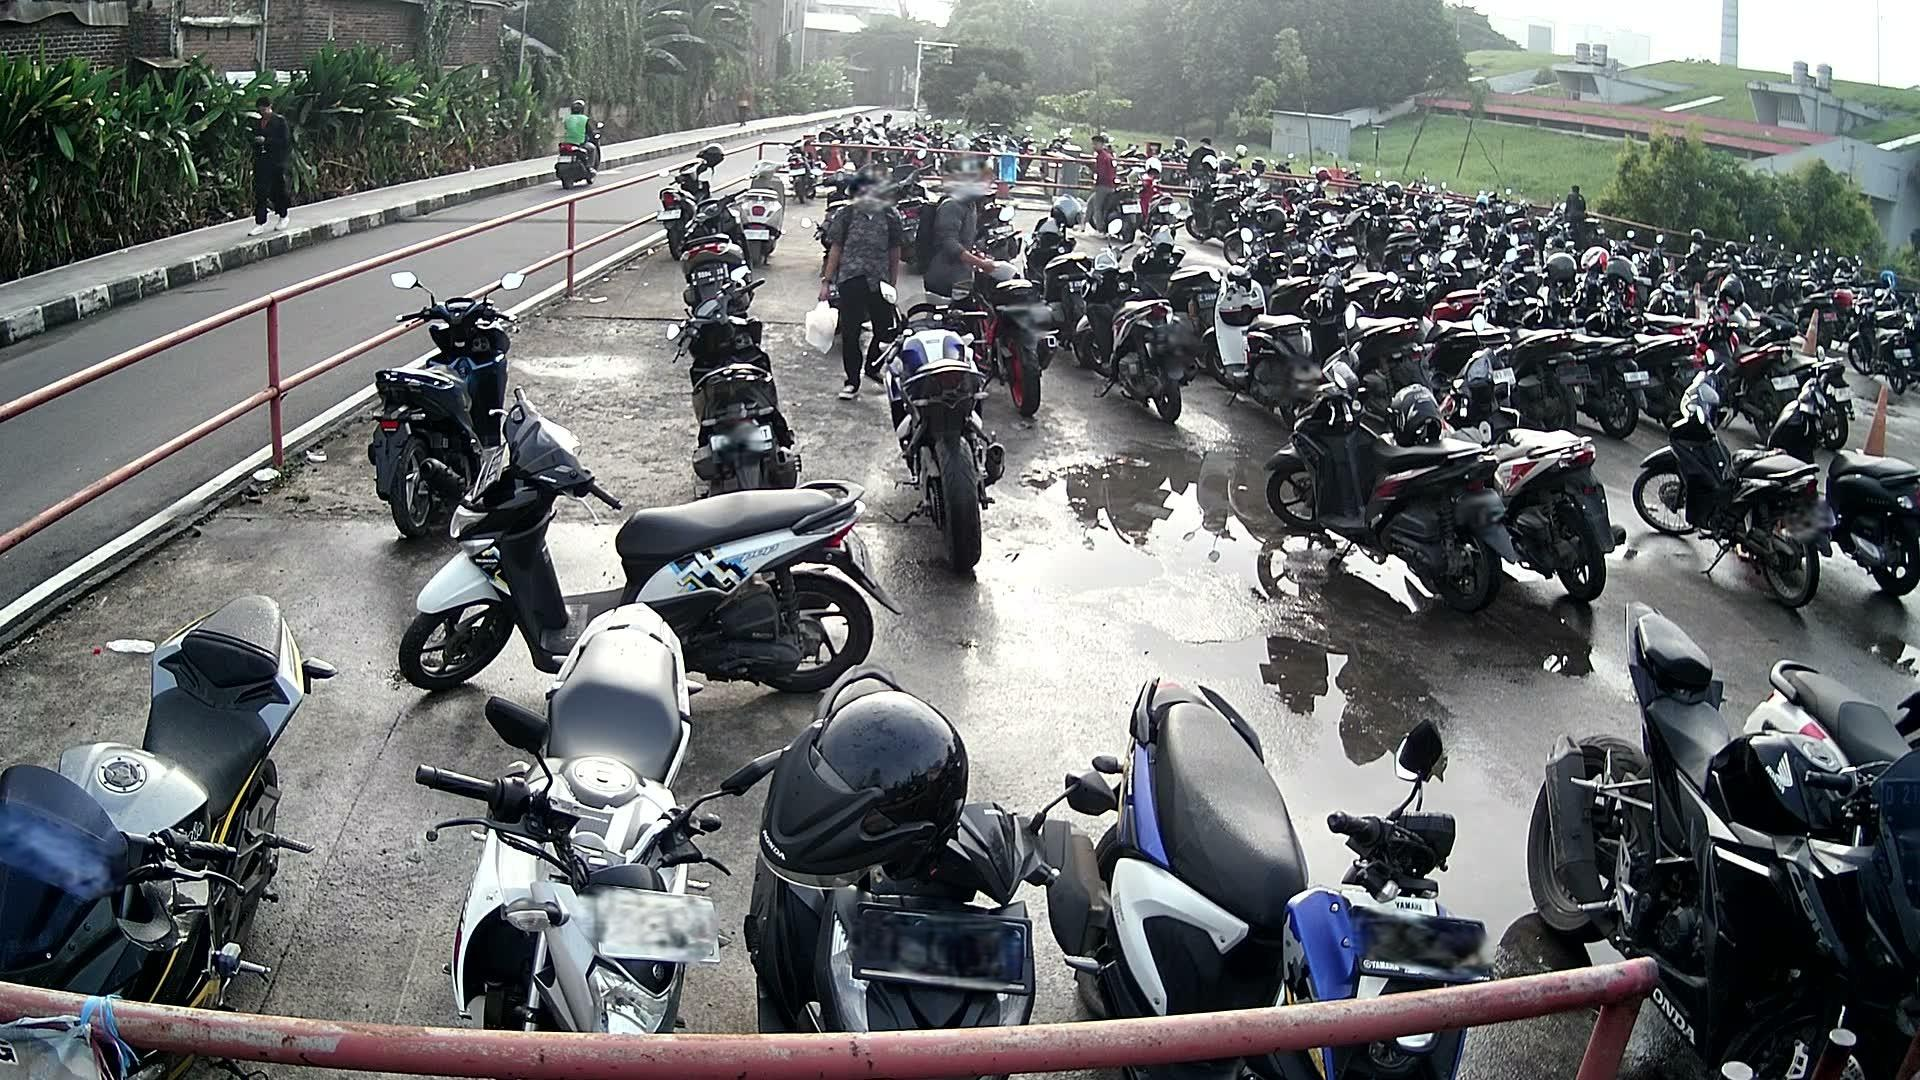motorcycle: (1531, 607, 1920, 1051), (404, 400, 903, 692), (1047, 669, 1486, 998), (415, 607, 752, 1035), (3, 592, 322, 1002), (748, 662, 1056, 1030), (1267, 359, 1518, 613), (1445, 351, 1631, 607), (1639, 368, 1830, 603), (878, 285, 1013, 571), (377, 270, 516, 534), (1772, 371, 1920, 595), (669, 281, 804, 487), (1741, 657, 1920, 767)
